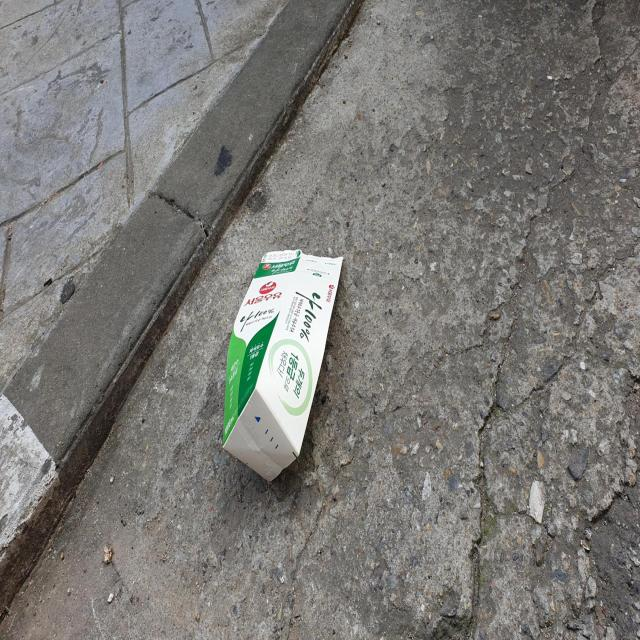paperpack: (222, 248, 343, 479)
